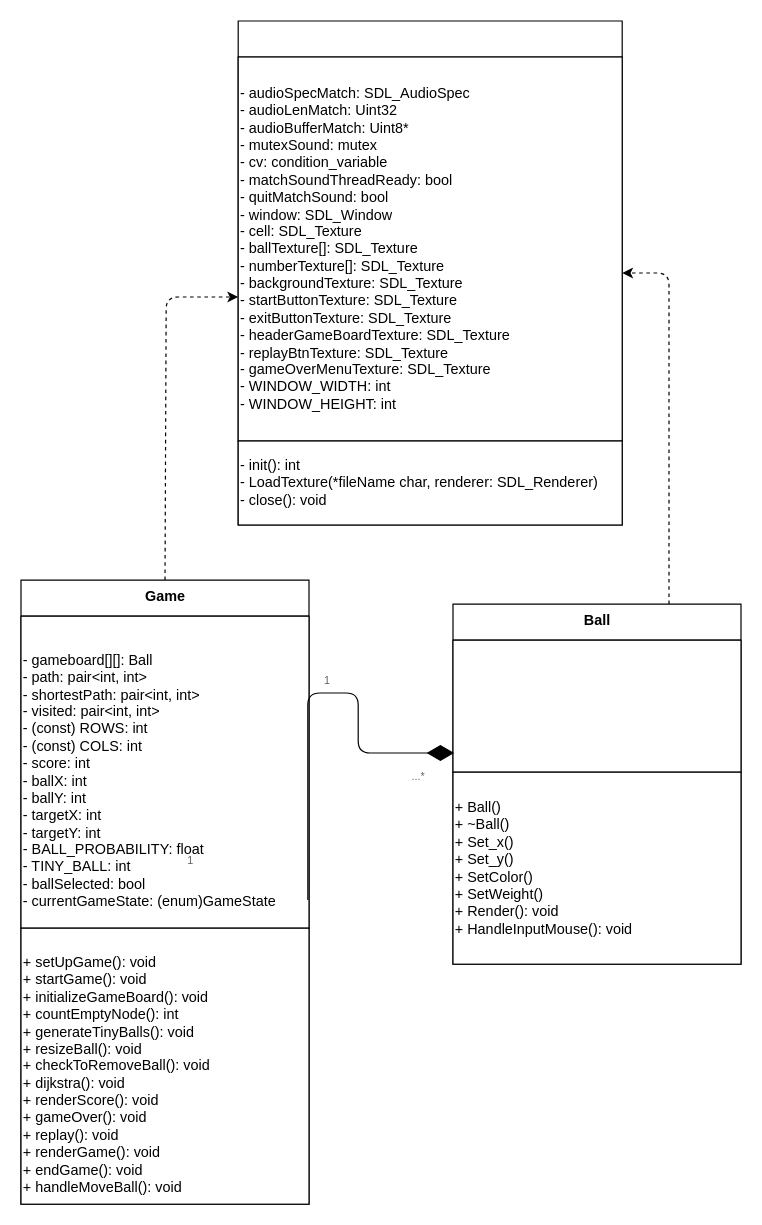
Image size: 762x1225. Some labels were removed from this diagram. Here are the shapes that lost their labels. From the top down, the box of each, then its label:
(237, 20, 622, 525): GameSDL
(452, 639, 741, 772): - x: int - y: int - color: int - weight: int
